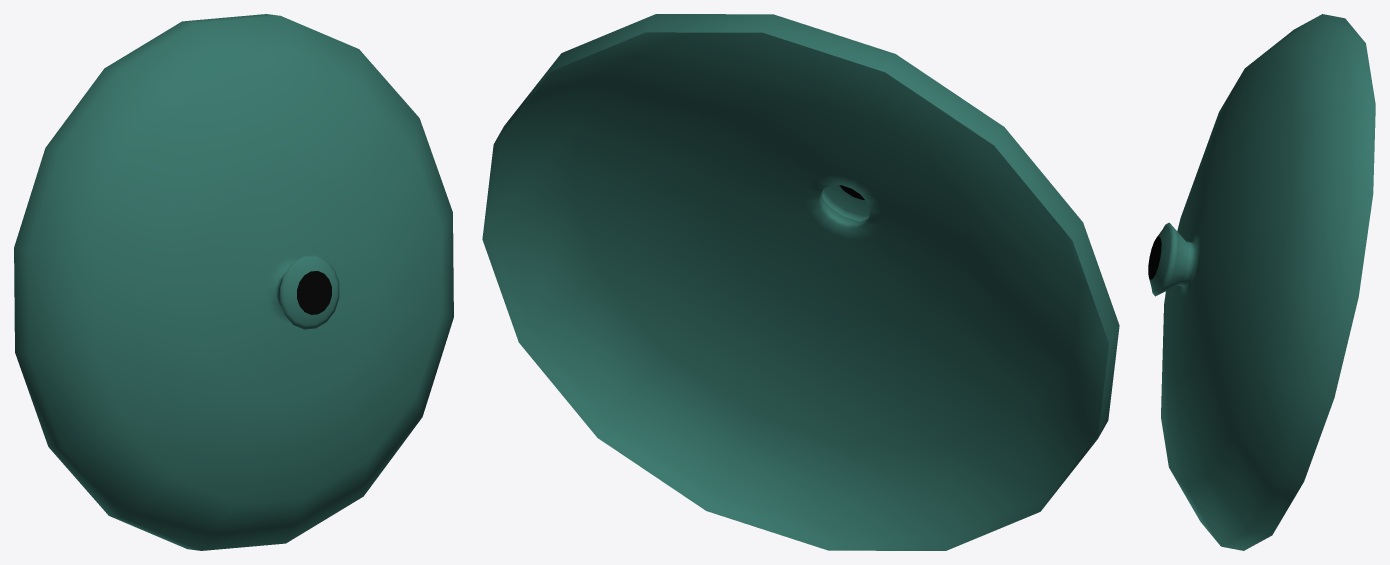
File: TeaPot_Lid_Low.fbx
3 views of the same model, side by side, from view 1: azimuth 30°, elevation 25°; view 2: azimuth 150°, elevation 25°; view 3: azimuth 270°, elevation 25° (orthographic). The views are drawn at different scales.
Visible parts, largest first — view 1: Teapot_Lid_low; view 2: Teapot_Lid_low; view 3: Teapot_Lid_low.
Part boxes in pixels (x1=…): Teapot_Lid_low: x1=14, y1=14, x2=453, y2=550; Teapot_Lid_low: x1=482, y1=14, x2=1119, y2=550; Teapot_Lid_low: x1=1148, y1=14, x2=1375, y2=550.
Bounding box in the file's own units: 193 × 189 × 81.21.
